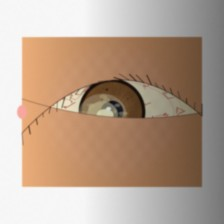corneal_ulcer: (77, 95, 128, 135)
